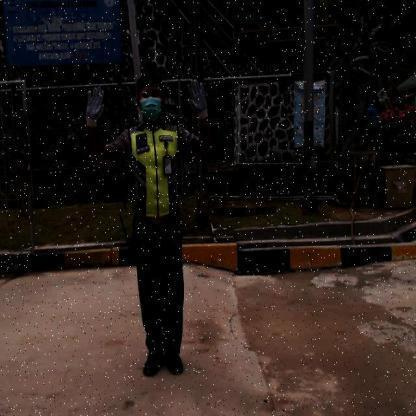boots: (142, 352, 165, 377), (164, 352, 186, 376)
gloves: (186, 77, 209, 121), (84, 85, 106, 129)
mask: (141, 99, 161, 121)
